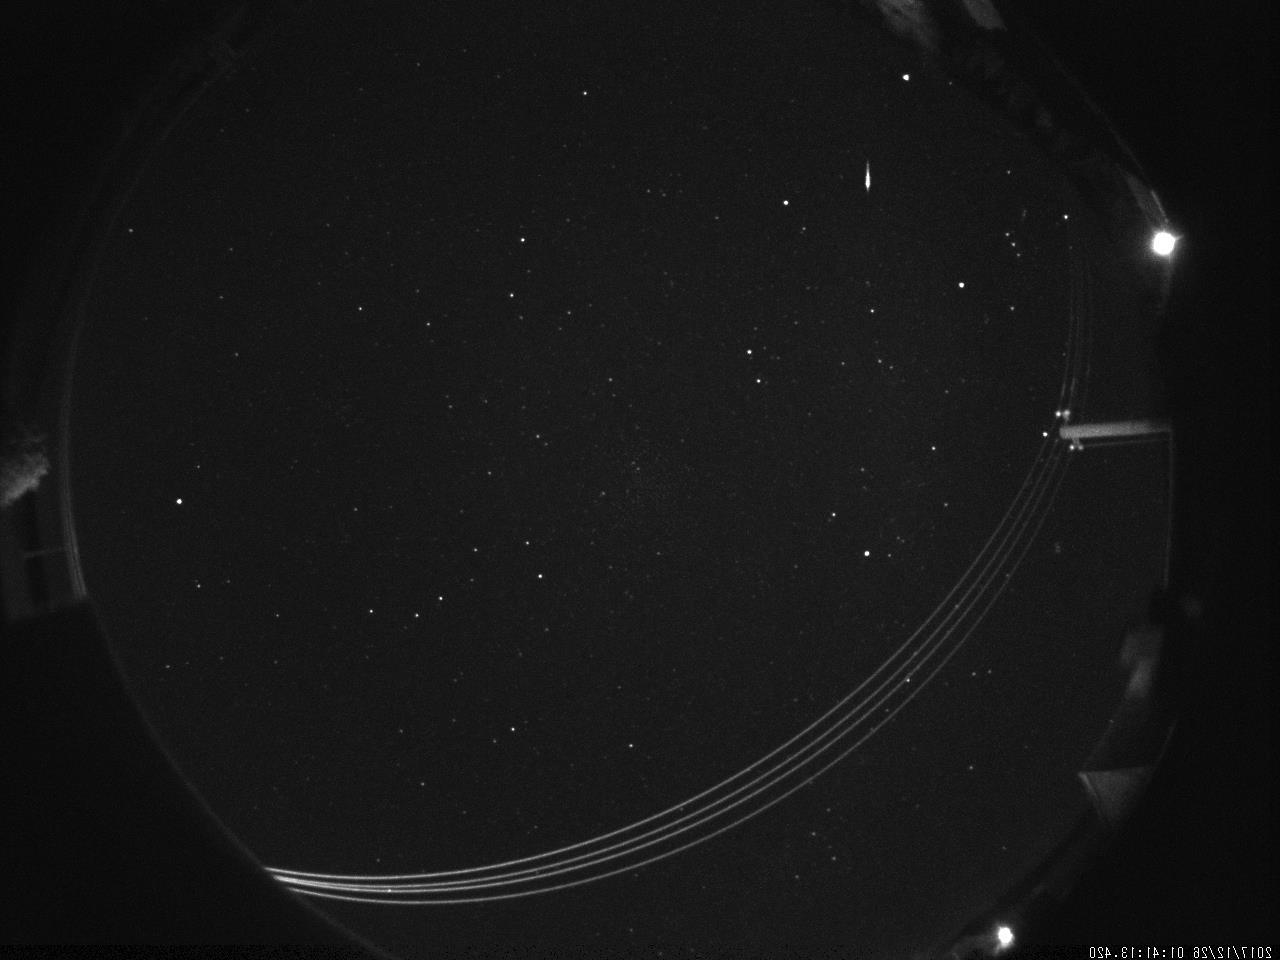meteor: (861, 157, 875, 195)
